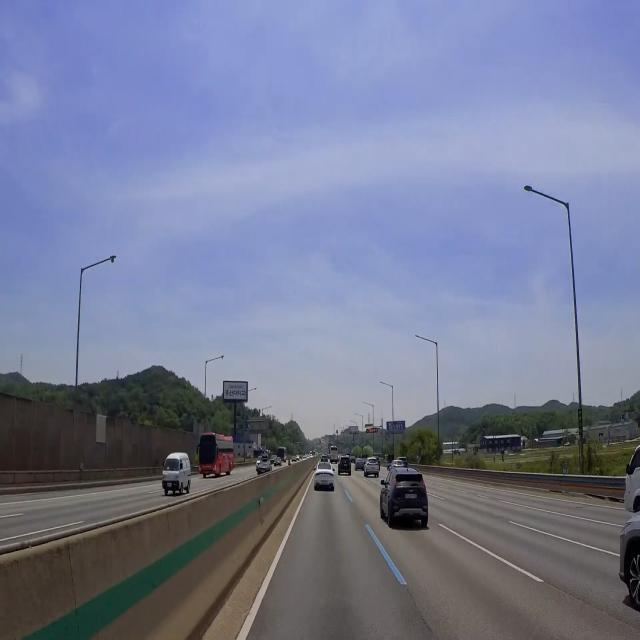car: (403, 490, 420, 505), (163, 480, 178, 494), (320, 476, 331, 488)
